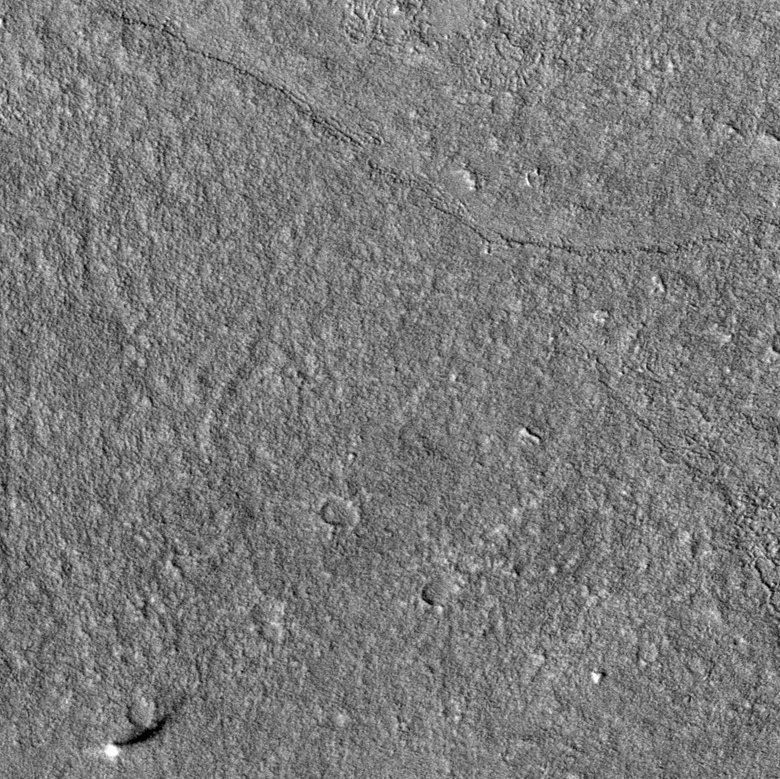dust_devil: (103, 702, 178, 760)
